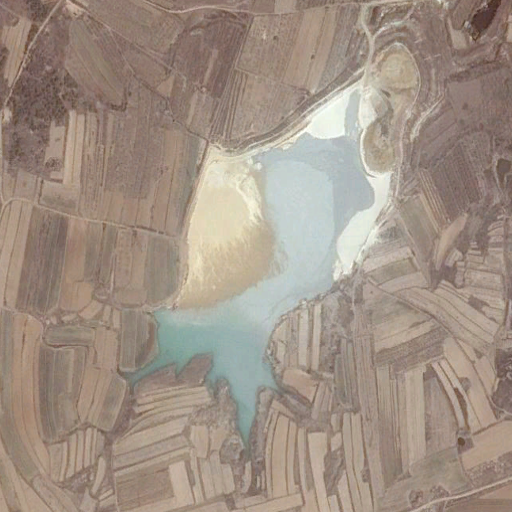tp: (121, 71, 399, 449)
